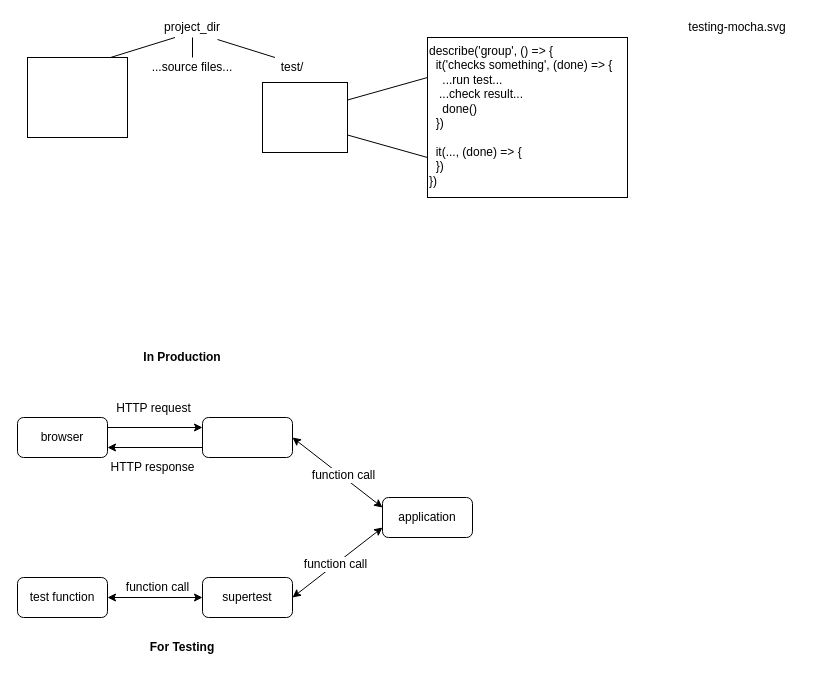
This 835x674 diagram has some shape labels left out. Each missing label, with the box of its shape:
Express server: (202, 416, 292, 458)
package.json ... "test": "mocha" ...: (26, 56, 128, 138)
test_config.js ...: (262, 82, 348, 152)
